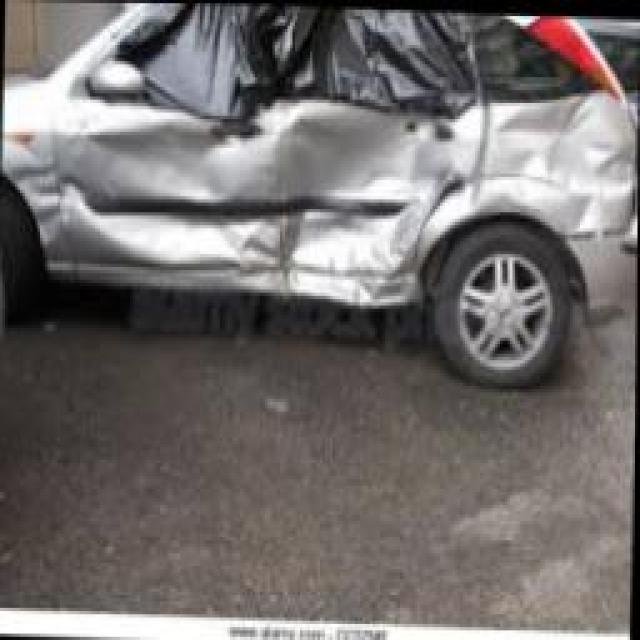Door: (47, 2, 306, 289), (282, 5, 476, 301)
Fender: (482, 90, 636, 232)
